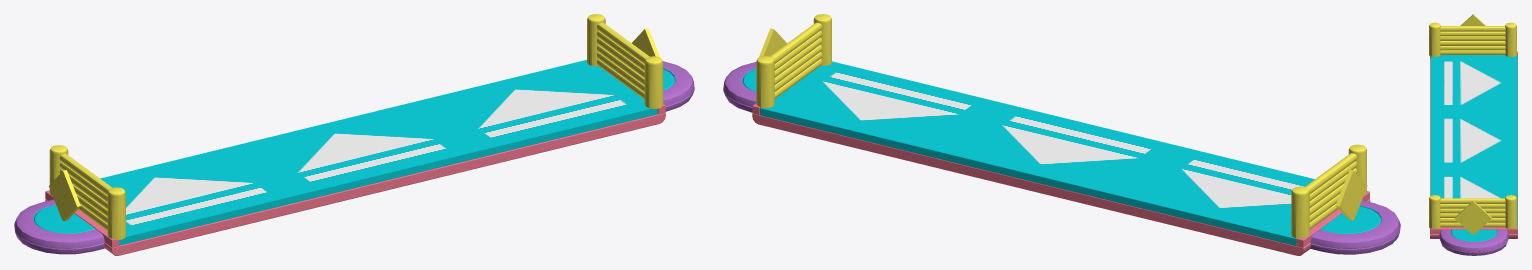
File: PLF0110042.fbx
3 views of the same model, side by side, from view 1: azimuth 30°, elevation 25°; view 2: azimuth 150°, elevation 25°; view 3: azimuth 270°, elevation 25° (orthographic). The views are drawn at different scales.
Parts seen in each view (by area): view 1: smPLF0110042; view 2: smPLF0110042; view 3: smPLF0110042.
Boxes of the visible parts, box(x1,y1,x2,y2) form: smPLF0110042: box(14, 14, 694, 255); smPLF0110042: box(723, 14, 1400, 255); smPLF0110042: box(1429, 14, 1517, 255).
Size of the model in its own units: 1916 by 183 by 337.
1 material, 1 textured.
